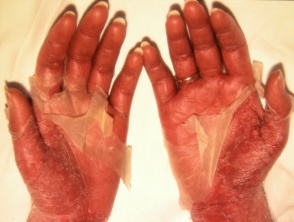SJS-TEN: (139, 0, 294, 222), (2, 0, 145, 222)
